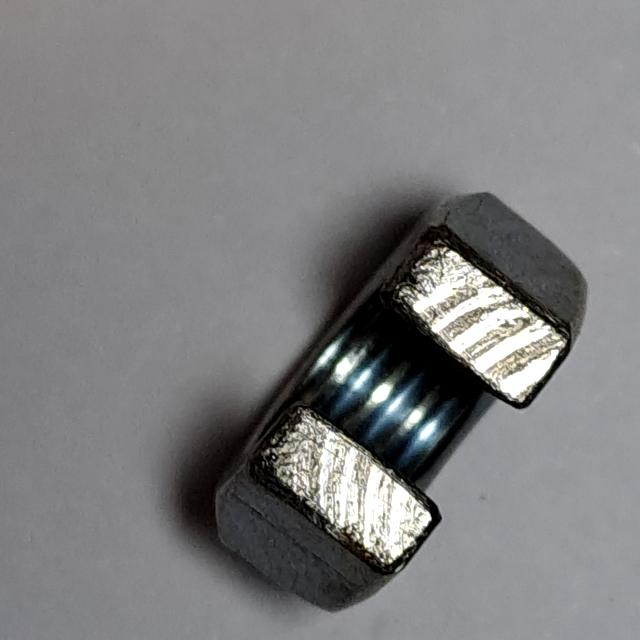Side-Fracture: (198, 182, 603, 622)
